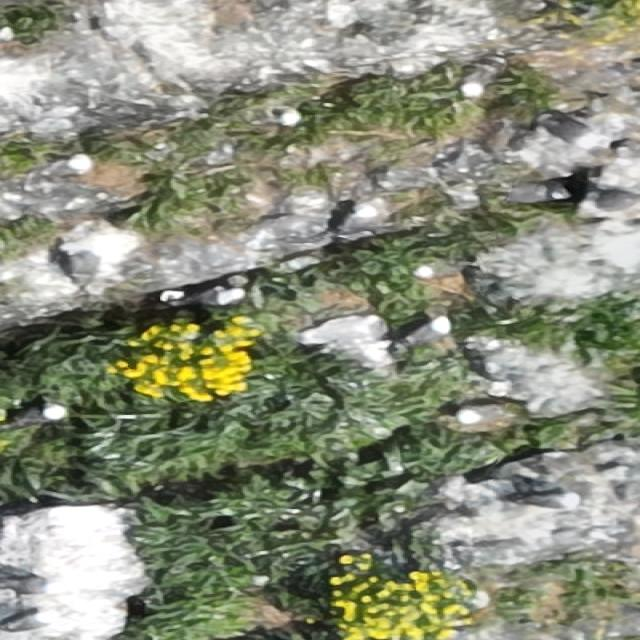umineko: (535, 110, 598, 149), (460, 56, 510, 104), (329, 198, 374, 250), (452, 401, 535, 426), (60, 248, 98, 295), (510, 489, 590, 510), (178, 286, 236, 305), (404, 320, 448, 344), (16, 404, 60, 424)
